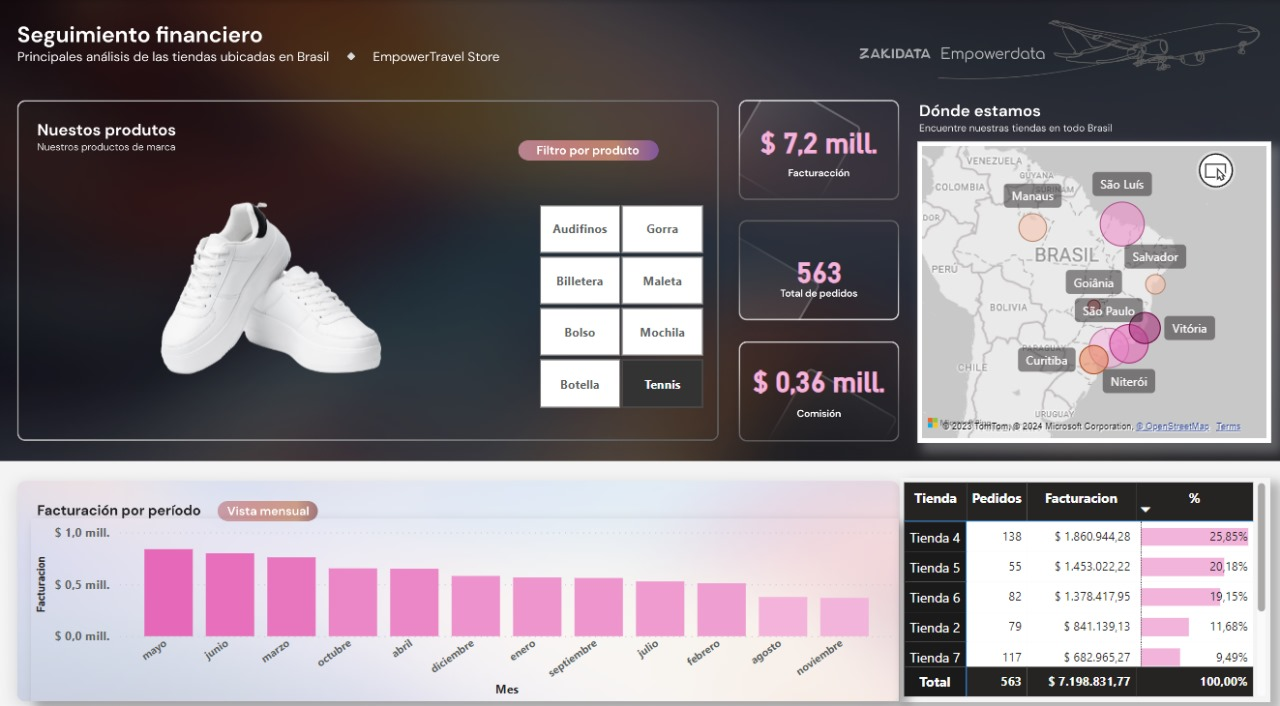

What the dashboard file says about the page in this screenshot:
{"tool":"powerbi","page":{"name":"Seguiminto_financiero","canvas":[1280,720],"ordinal":0},"visuals":[{"type":"card","fields":{"Values":["Medidas_calculadas.Facturacion"]},"box":[739.6,108.4,160.5,65.9],"z":0},{"type":"card","fields":{"Values":["Medidas_calculadas.total_pedidos"]},"box":[739.6,226.4,160.5,87.8],"z":1000},{"type":"card","fields":{"Values":["Medidas_calculadas.Comision"]},"box":[739.6,345.8,160.5,67.2],"z":2000},{"type":"map","fields":{"Category":["Tiendas.Ciudad"],"Size":["Medidas_calculadas.Facturacion"]},"box":[918,141.3,352.7,300.5],"z":3000},{"type":"clusteredColumnChart","fields":{"Y":["Medidas_calculadas.Facturacion"],"Category":["RegistroVentas.Fecha_ Pedido.Variación.Jerarquía de fechas.Mes"]},"box":[34.3,517.3,865.9,182.5],"z":4000},{"type":"pivotTable","fields":{"Rows":["Tiendas.nombre_Tienda"],"Values":["Medidas_calculadas.total_pedidos","Medidas_calculadas.Facturacion","Divide(Medidas_calculadas.Facturacion, ScopedEval(Medidas_calculadas.Facturacion, []))"]},"box":[900.2,476.2,370.5,223.7],"z":5000},{"type":"slicer","fields":{"Values":["Productos.descripción_producto"]},"box":[514.6,197.6,212.7,215.4],"z":6000},{"type":"ImageGrid_FC5183B9_926C_45E0_B5F7_0CE9EAF1DA9B","fields":{"Value":["CountNonNull(Productos.descripción_producto)"],"ImageURLHQ":["Productos.img_url"]},"box":[0,104.9,547.5,366.6],"z":7000}]}

Visuals, with their boxes in screenshot pixels (x1, y1, x2, y2), scaled from the page's 1280x720 canvas onto the 1280x706 screenshot:
card - Medidas_calculadas.Facturacion: [740, 106, 900, 171]
card - Medidas_calculadas.total_pedidos: [740, 222, 900, 308]
card - Medidas_calculadas.Comision: [740, 339, 900, 405]
map - Tiendas.Ciudad x Medidas_calculadas.Facturacion: [918, 139, 1271, 433]
clusteredColumnChart - Medidas_calculadas.Facturacion x RegistroVentas.Fecha_ Pedido.Variación.Jerarquía de fechas.Mes: [34, 507, 900, 686]
pivotTable - Tiendas.nombre_Tienda x Medidas_calculadas.total_pedidos: [900, 467, 1271, 686]
slicer - Productos.descripción_producto: [515, 194, 727, 405]
ImageGrid_FC5183B9_926C_45E0_B5F7_0CE9EAF1DA9B - CountNonNull(Productos.descripción_producto) x Productos.img_url: [0, 103, 548, 462]
